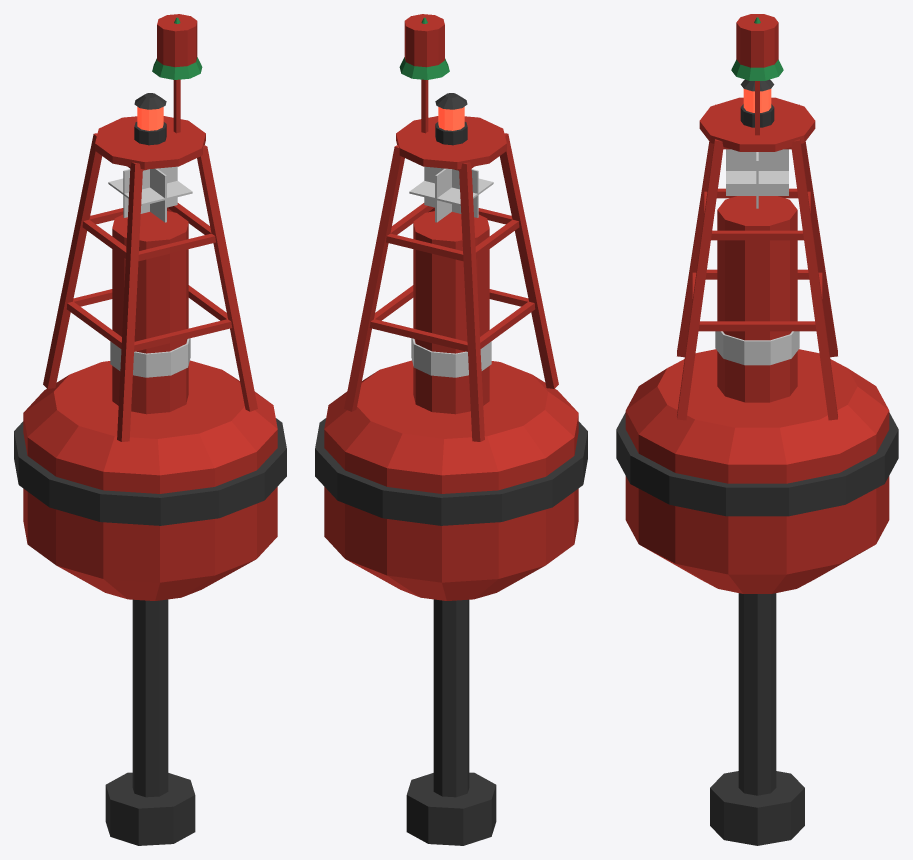
File: buoy.glb
3 views of the same model, side by side, from view 1: azimuth 30°, elevation 25°; view 2: azimuth 150°, elevation 25°; view 3: azimuth 270°, elevation 25° (orthographic). The views are drawn at different scales.
Visible parts, largest first — view 1: buoy_port_red, buoy_starboard_green; view 2: buoy_port_red, buoy_starboard_green; view 3: buoy_port_red, buoy_starboard_green.
Boxes of the visible parts, x1,y1,x2,y2 form: buoy_port_red: (14, 14, 286, 845); buoy_starboard_green: (152, 17, 202, 79); buoy_port_red: (315, 14, 587, 845); buoy_starboard_green: (399, 17, 449, 79); buoy_port_red: (616, 14, 898, 845); buoy_starboard_green: (731, 17, 783, 80).
Size of the model in its own units: 2.61 by 8.6 by 2.68.
